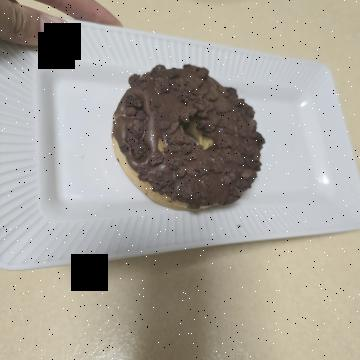doughnut: (64, 86, 234, 263)
